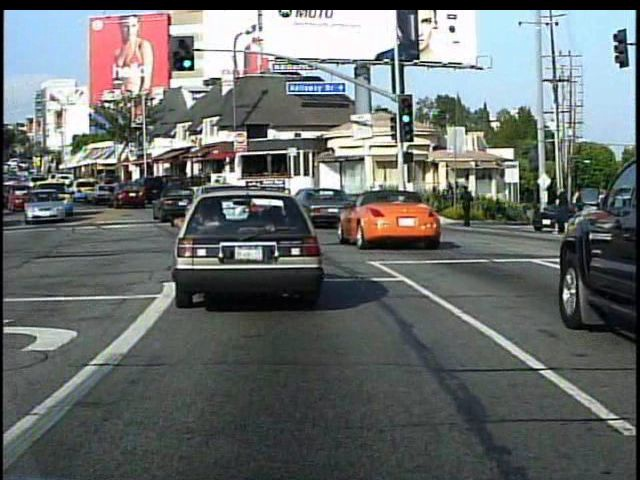person: (551, 183, 571, 237), (457, 182, 478, 231)
